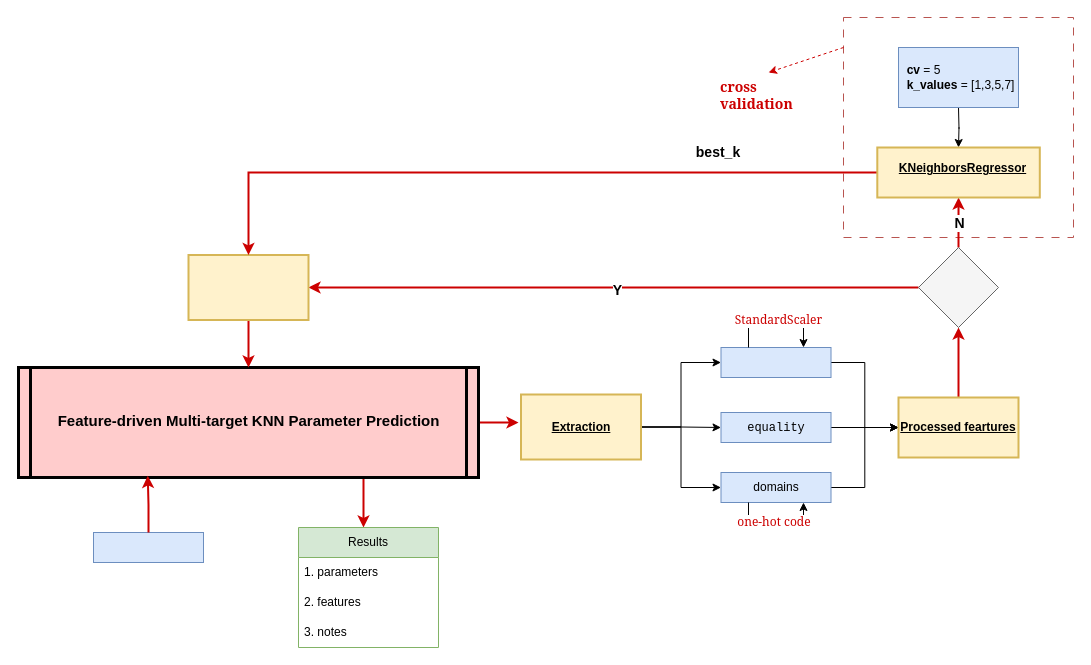
Some shapes in this 1091 by 665 pixel diagram are drawn without their labels. The centre of each missing label's shape, as x and y in pixels:
"features" belongs at (x=148, y=547).
"numerical" belongs at (x=775, y=362).
"Predict" belongs at (x=958, y=287).
"Predicter" belongs at (x=248, y=287).
